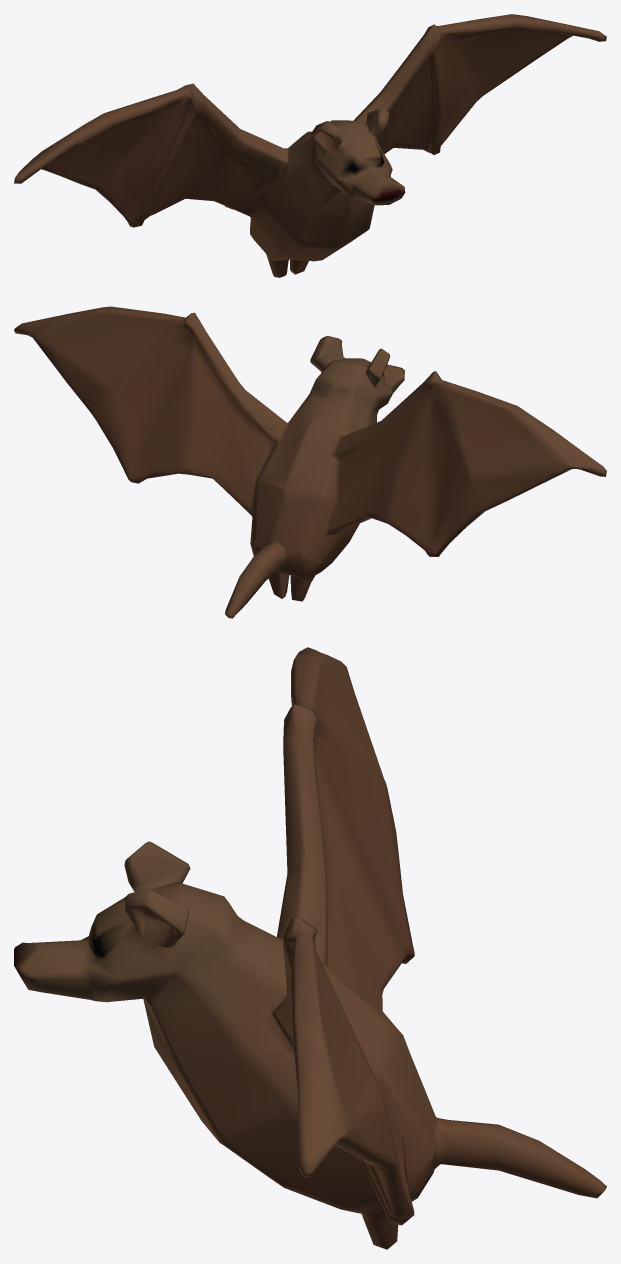
File: gen3d-flying-bat-lod0.glb
3 views of the same model, one above another, from view 1: azimuth 30°, elevation 25°; view 2: azimuth 150°, elevation 25°; view 3: azimuth 270°, elevation 25° (orthographic). The views are drawn at different scales.
Parts seen in each view (by area): view 1: part_0; view 2: part_0; view 3: part_0.
Part boxes in pixels (x1=…): part_0: x1=14, y1=14, x2=606, y2=277; part_0: x1=14, y1=306, x2=606, y2=618; part_0: x1=14, y1=647, x2=606, y2=1249.
Size of the model in its own units: 2.59 by 0.9972 by 1.25.
